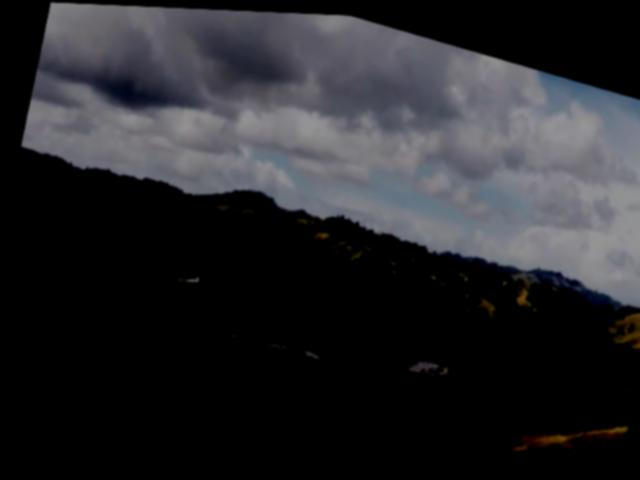iha: (171, 263, 205, 288)
